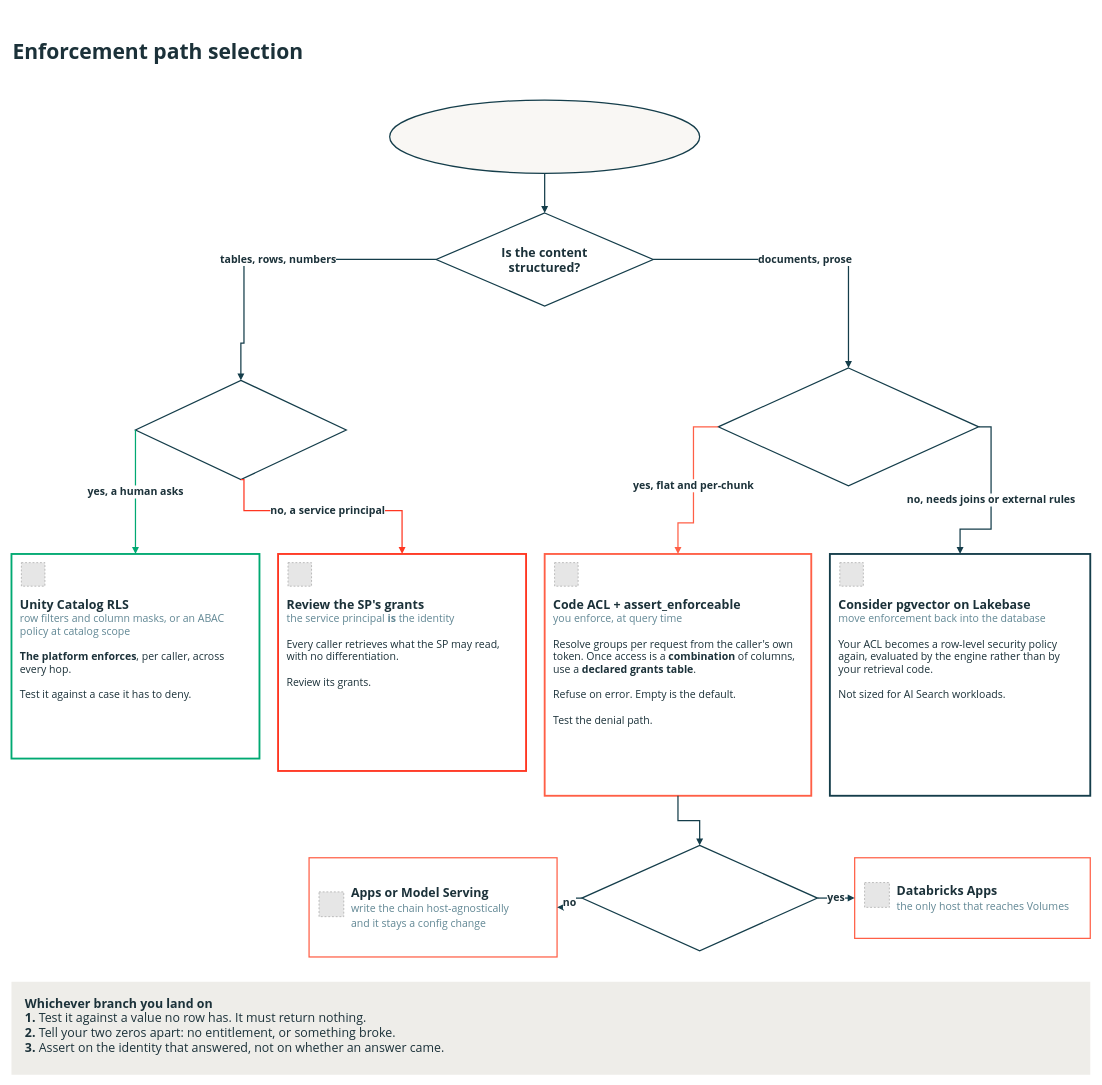
This 1102x1085 diagram has some shape labels left out. Grey dashed boxes stand in for pictures. Each missing label, with the box of its shape:
Does the ACL fit the index metadata columns? flat, per-chunk, no joins: (717, 367, 979, 486)
Does the chain need UC Volumes or file ops?: (581, 844, 818, 951)
Interactive caller? a human, live: (135, 379, 347, 480)
You need per-user access control over retrieved content: (389, 99, 700, 174)
